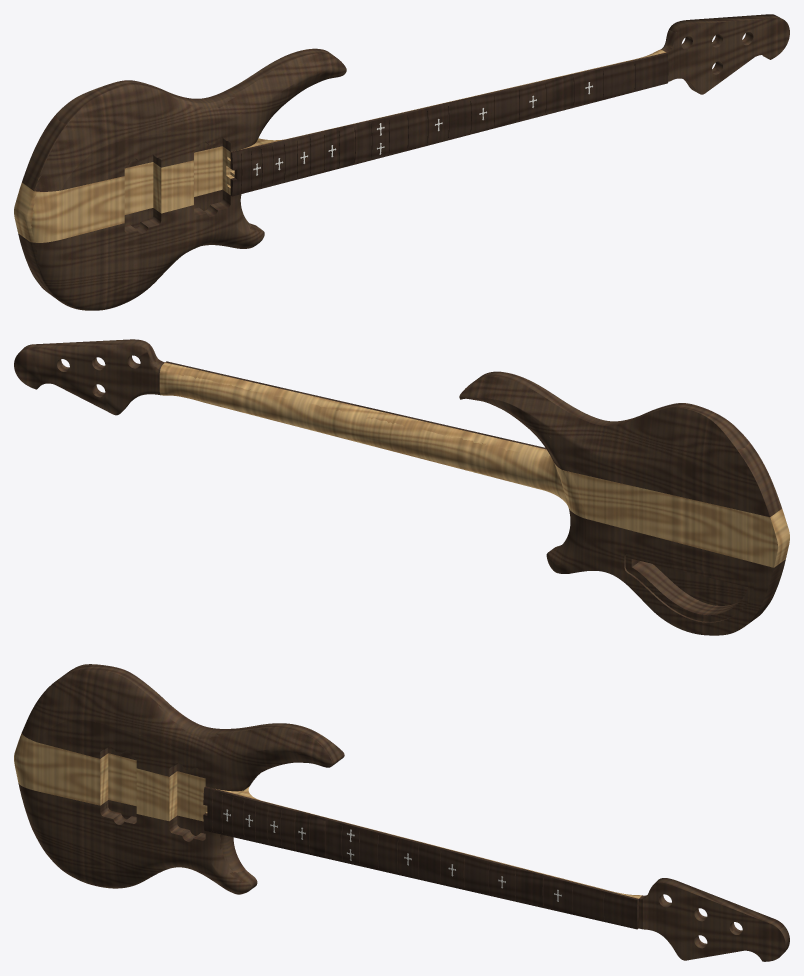
File: majesty-bass.glb
3 views of the same model, one above another, from view 1: azimuth 30°, elevation 25°; view 2: azimuth 150°, elevation 25°; view 3: azimuth 330°, elevation 25° (orthographic).
Visible parts, largest first — view 1: walnut, walnutfb, neck; view 2: walnut, neck, walnutfb; view 3: walnut, walnutfb, neck.
Part boxes in pixels (x1,y1,x2,y2): walnut: [18, 14, 789, 310]; walnutfb: [230, 52, 668, 196]; neck: [14, 49, 666, 242]; walnut: [14, 339, 785, 635]; neck: [159, 362, 789, 567]; walnutfb: [165, 361, 545, 449]; walnut: [18, 664, 789, 961]; walnutfb: [203, 786, 638, 929]; neck: [14, 733, 641, 898].
Bounding box in the file's own units: 1120 × 304 × 51.86.
4 materials, 3 textured.
